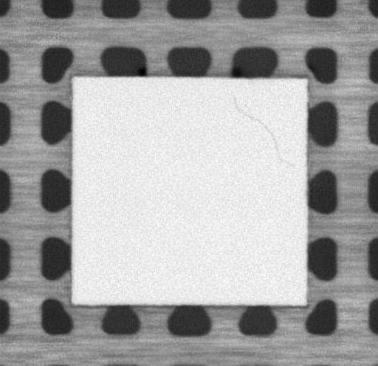DIE_CRACK: (230, 93, 298, 168)
